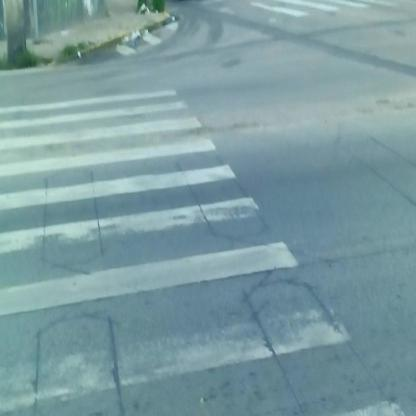crosswalk: (5, 92, 360, 410), (224, 4, 365, 33)
sidewalk: (22, 6, 173, 68)
